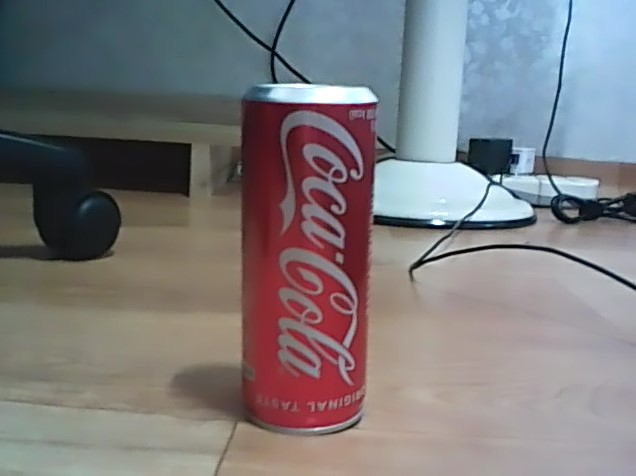Can: (237, 74, 383, 440)
